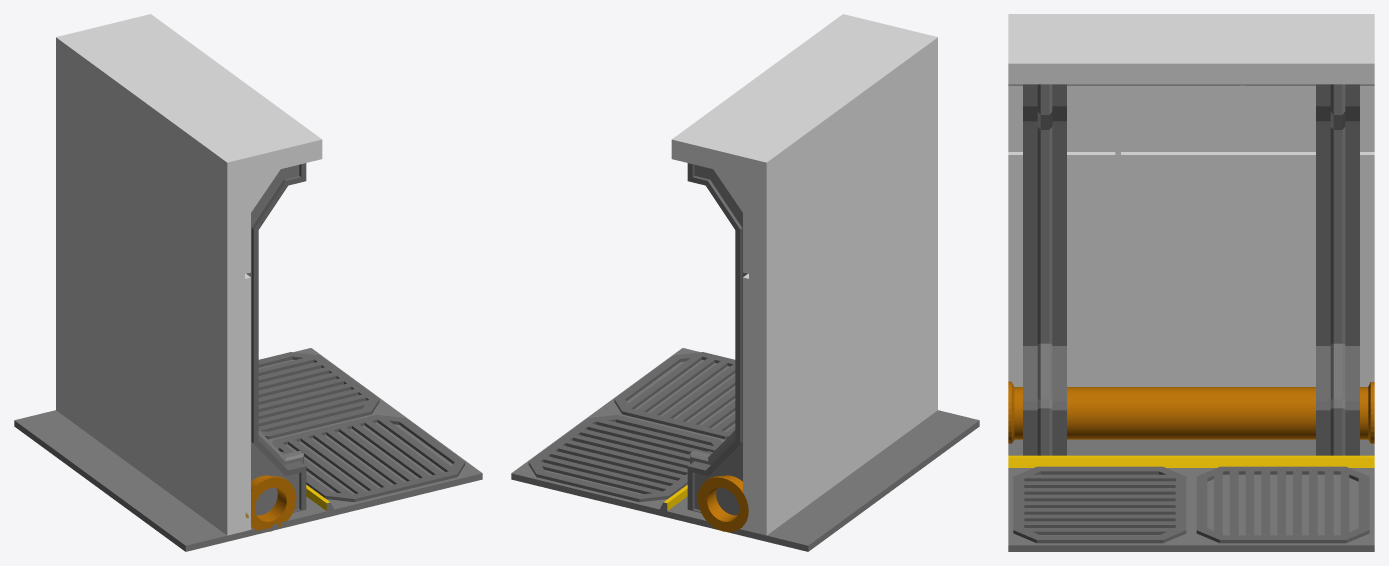
The model's file is Space_Ship_Set_7.fbx.
3 views of the same model, side by side, from view 1: azimuth 30°, elevation 25°; view 2: azimuth 150°, elevation 25°; view 3: azimuth 270°, elevation 25° (orthographic). The views are drawn at different scales.
Visible parts, largest first — view 1: Space_Ship_Set_1_50mm_7; view 2: Space_Ship_Set_1_50mm_7; view 3: Space_Ship_Set_1_50mm_7.
Part boxes in pixels (x1,y1,x2,y2): Space_Ship_Set_1_50mm_7: [14, 14, 482, 551]; Space_Ship_Set_1_50mm_7: [511, 14, 979, 551]; Space_Ship_Set_1_50mm_7: [1008, 14, 1374, 551].
Size of what is drawn, in the model's own units: 0.03 by 0.0366 by 0.03.
1 material, 1 textured.
